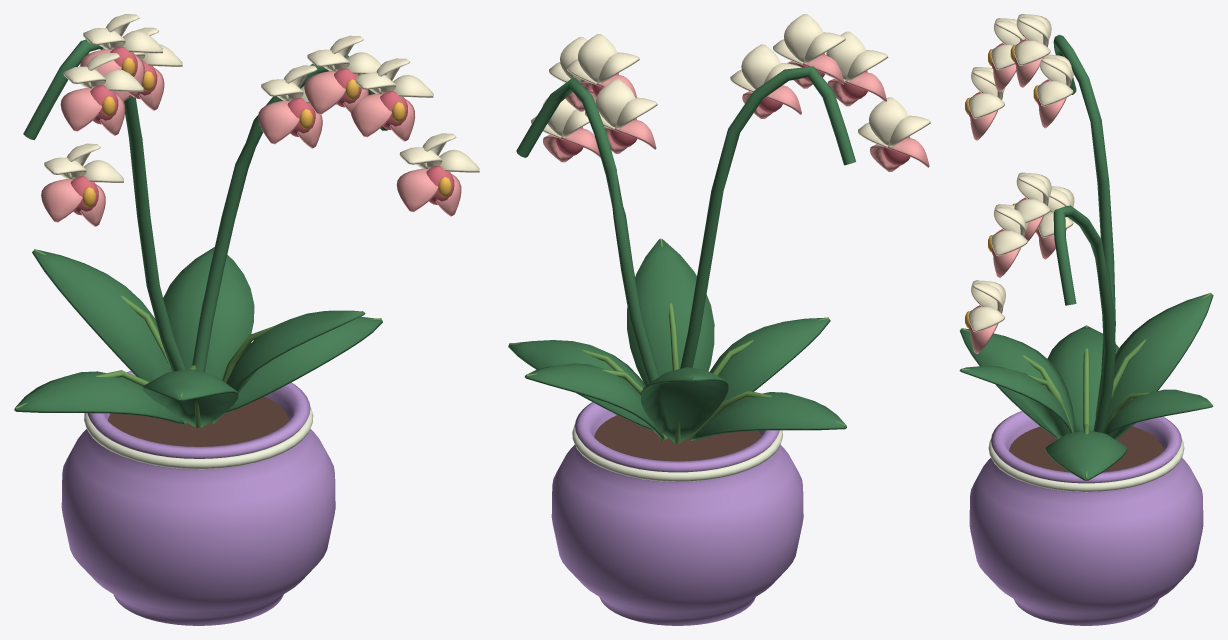
Rendered from atelier_orchid.glb.
3 renders of one model, left to right at view 1: azimuth 30°, elevation 25°; view 2: azimuth 150°, elevation 25°; view 3: azimuth 270°, elevation 25°, orthographic. The views are drawn at different scales.
Visible parts, largest first — view 1: Orquídea de marfil; view 2: Orquídea de marfil; view 3: Orquídea de marfil.
Boxes of the visible parts, left/top/right/bottom form: Orquídea de marfil: left=14, top=14, right=479, bottom=625; Orquídea de marfil: left=508, top=14, right=930, bottom=625; Orquídea de marfil: left=959, top=14, right=1213, bottom=625.
Size of the model in its own units: 0.7037 by 0.9814 by 0.4234.
